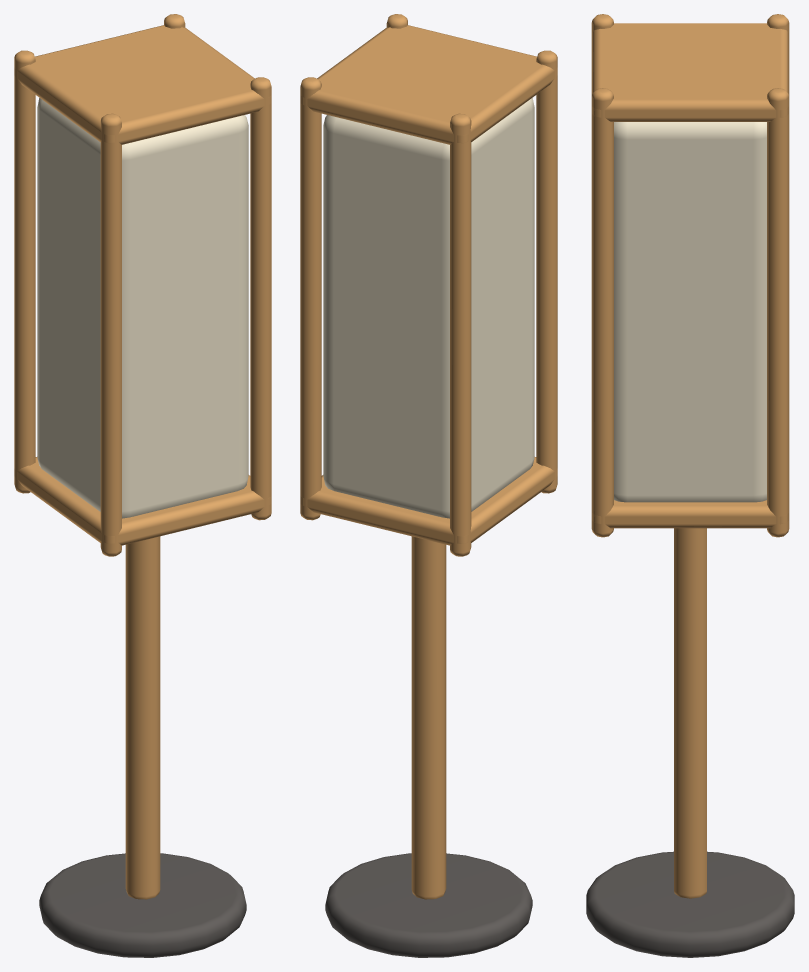
File: paper_floor_lamp.glb
The picture shows the model from 3 angles, left to right: view 1: azimuth 30°, elevation 25°; view 2: azimuth 150°, elevation 25°; view 3: azimuth 270°, elevation 25°; orthographic projection.
Parts seen in each view (by area): view 1: paper_floor_lamp_mesh; view 2: paper_floor_lamp_mesh; view 3: paper_floor_lamp_mesh.
Boxes of the visible parts, <box> form: paper_floor_lamp_mesh: <box>14,14,271,957</box>; paper_floor_lamp_mesh: <box>300,14,557,957</box>; paper_floor_lamp_mesh: <box>586,14,794,957</box>.
Size of the model in its own units: 0.3 by 1.36 by 0.2969.
